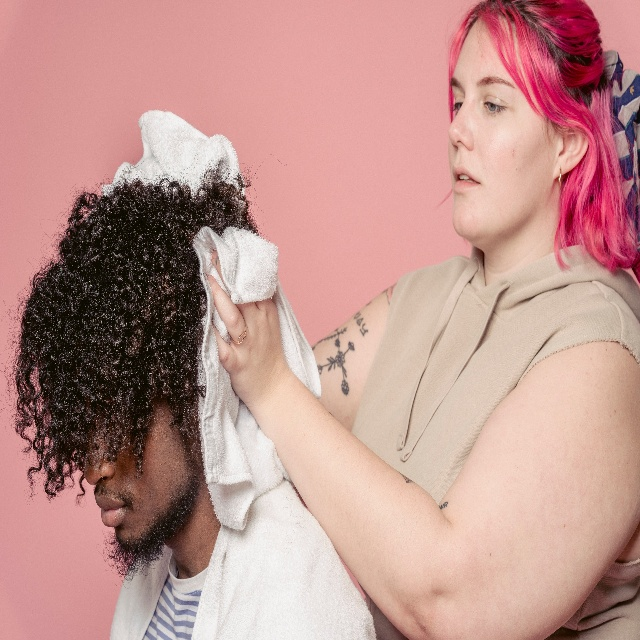Sin_guantes: (206, 251, 285, 413)
